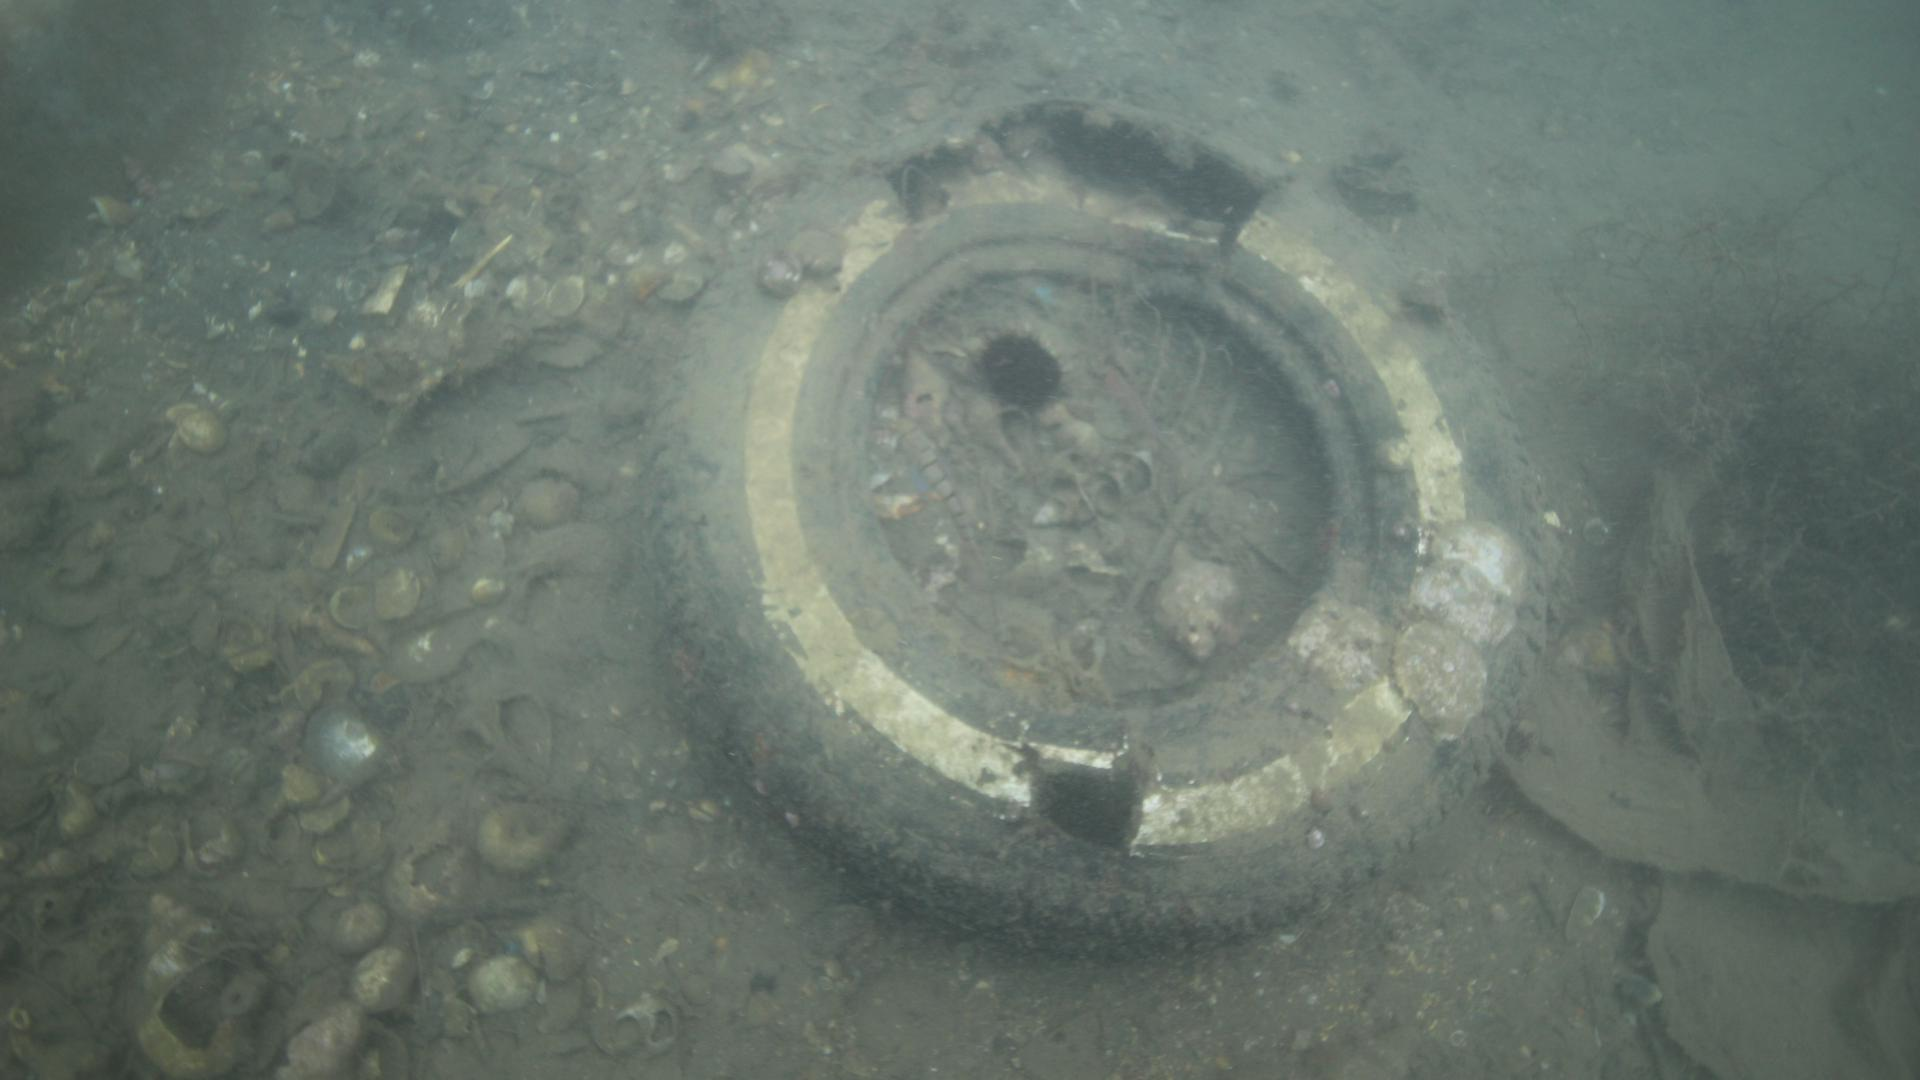tire: (637, 96, 1545, 963)
